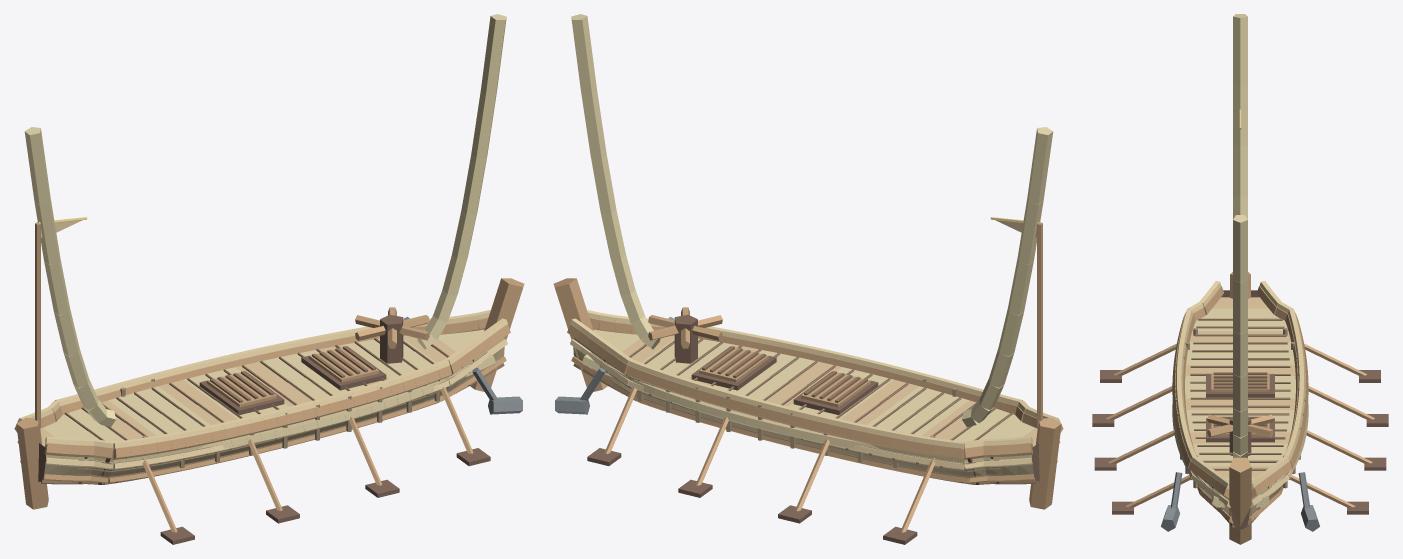
File: nile_papyrus-v5-mobile.glb
3 renders of one model, left to right at view 1: azimuth 30°, elevation 25°; view 2: azimuth 150°, elevation 25°; view 3: azimuth 270°, elevation 25°, orthographic. The views are drawn at different scales.
Visible parts, largest first — view 1: nile_papyrus_hull_reed2, nile_papyrus_hull_wood, nile_papyrus_hull_pale, nile_papyrus_hull_seam, nile_papyrus_hull_decklight, nile_papyrus_fittings_wood, nile_papyrus_ornament_reed, nile_papyrus_fittings_darkwood, nile_papyrus_hull_reed, nile_papyrus_oars_wood, nile_papyrus_fittings_seam, nile_papyrus_oars_darkwood (+3 smaller); view 2: nile_papyrus_hull_reed2, nile_papyrus_hull_wood, nile_papyrus_hull_pale, nile_papyrus_hull_seam, nile_papyrus_hull_decklight, nile_papyrus_fittings_wood, nile_papyrus_ornament_reed, nile_papyrus_fittings_darkwood, nile_papyrus_hull_reed, nile_papyrus_oars_wood, nile_papyrus_fittings_seam, nile_papyrus_oars_darkwood (+3 smaller); view 3: nile_papyrus_hull_reed2, nile_papyrus_hull_wood, nile_papyrus_hull_pale, nile_papyrus_hull_decklight, nile_papyrus_hull_seam, nile_papyrus_oars_wood, nile_papyrus_oars_darkwood, nile_papyrus_fittings_wood, nile_papyrus_fittings_darkwood, nile_papyrus_fittings_iron, nile_papyrus_fittings_seam, nile_papyrus_ornament_reed (+1 smaller).
Boxes of the visible parts, x1=… form: nile_papyrus_hull_reed2: x1=24, y1=14, x2=506, y2=479; nile_papyrus_hull_wood: x1=14, y1=278, x2=524, y2=509; nile_papyrus_hull_pale: x1=17, y1=310, x2=507, y2=469; nile_papyrus_hull_seam: x1=41, y1=337, x2=504, y2=484; nile_papyrus_hull_decklight: x1=40, y1=335, x2=455, y2=446; nile_papyrus_fittings_wood: x1=207, y1=307, x2=429, y2=407; nile_papyrus_ornament_reed: x1=198, y1=364, x2=478, y2=449; nile_papyrus_fittings_darkwood: x1=199, y1=314, x2=403, y2=414; nile_papyrus_hull_reed: x1=39, y1=347, x2=504, y2=481; nile_papyrus_oars_wood: x1=142, y1=387, x2=473, y2=532; nile_papyrus_fittings_seam: x1=210, y1=346, x2=375, y2=402; nile_papyrus_oars_darkwood: x1=160, y1=448, x2=490, y2=544; nile_papyrus_hull_reed2: x1=571, y1=14, x2=1053, y2=479; nile_papyrus_hull_wood: x1=553, y1=278, x2=1063, y2=509; nile_papyrus_hull_pale: x1=570, y1=310, x2=1060, y2=469; nile_papyrus_hull_seam: x1=573, y1=337, x2=1036, y2=484; nile_papyrus_hull_decklight: x1=622, y1=335, x2=1037, y2=446; nile_papyrus_fittings_wood: x1=648, y1=307, x2=870, y2=407; nile_papyrus_ornament_reed: x1=599, y1=364, x2=879, y2=449; nile_papyrus_fittings_darkwood: x1=674, y1=314, x2=878, y2=414; nile_papyrus_hull_reed: x1=573, y1=347, x2=1038, y2=481; nile_papyrus_oars_wood: x1=604, y1=387, x2=935, y2=532; nile_papyrus_fittings_seam: x1=702, y1=346, x2=867, y2=402; nile_papyrus_oars_darkwood: x1=587, y1=448, x2=917, y2=544; nile_papyrus_hull_reed2: x1=1185, y1=14, x2=1295, y2=523; nile_papyrus_hull_wood: x1=1172, y1=272, x2=1308, y2=544; nile_papyrus_hull_pale: x1=1175, y1=281, x2=1305, y2=507; nile_papyrus_hull_decklight: x1=1185, y1=297, x2=1295, y2=477; nile_papyrus_hull_seam: x1=1190, y1=318, x2=1290, y2=527; nile_papyrus_oars_wood: x1=1106, y1=344, x2=1374, y2=507; nile_papyrus_oars_darkwood: x1=1092, y1=370, x2=1388, y2=514; nile_papyrus_fittings_wood: x1=1207, y1=373, x2=1273, y2=437; nile_papyrus_fittings_darkwood: x1=1206, y1=374, x2=1274, y2=455; nile_papyrus_fittings_iron: x1=1161, y1=472, x2=1319, y2=531; nile_papyrus_fittings_seam: x1=1213, y1=372, x2=1267, y2=432; nile_papyrus_ornament_reed: x1=1172, y1=403, x2=1308, y2=496.
Bounding box in the file's own units: 28.08 × 20.01 × 16.01.
